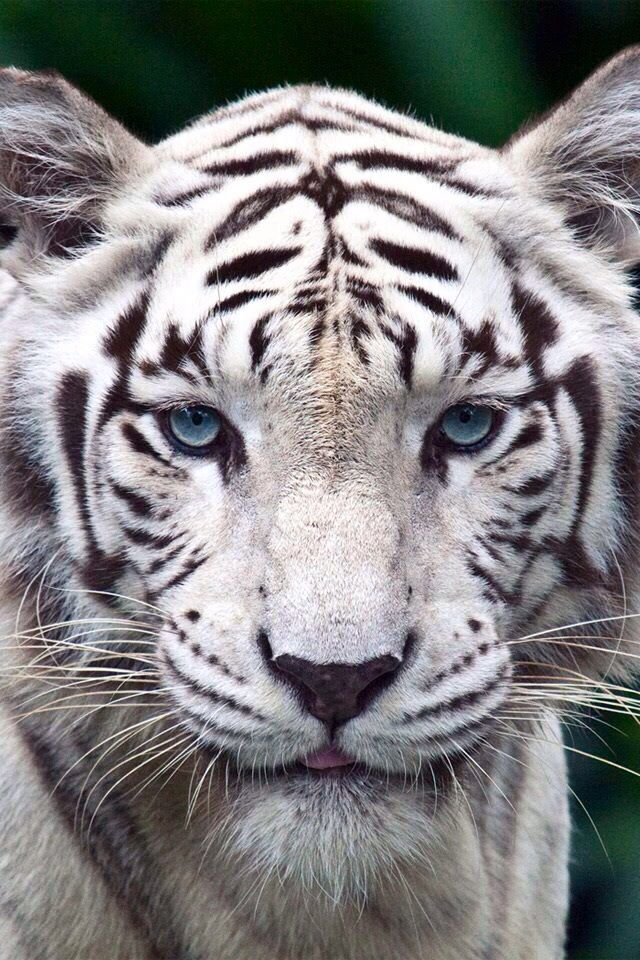Tigrew: (10, 52, 640, 914)
